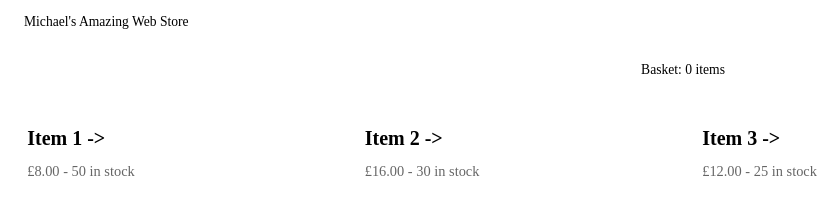
Test: Shopping Cart Integration › shows item counts in the main page cart summary
// Find and click the first item button
Click the button with aria-label "Add to Cart Item 1 to basket".
click(55, 138)  # box [8,94,346,198]
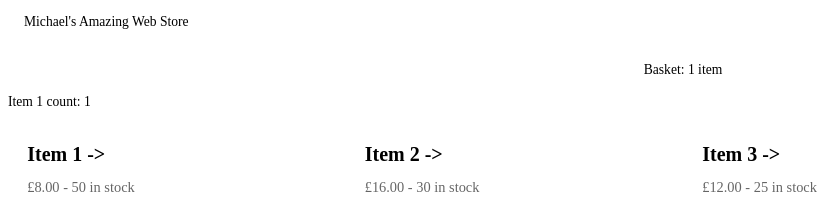
Check: the link "Basket: 1 item" is shown, box [644,62,722,77]
Check: the text "Item 1 count: 1" is shown, box [8,94,91,109]
